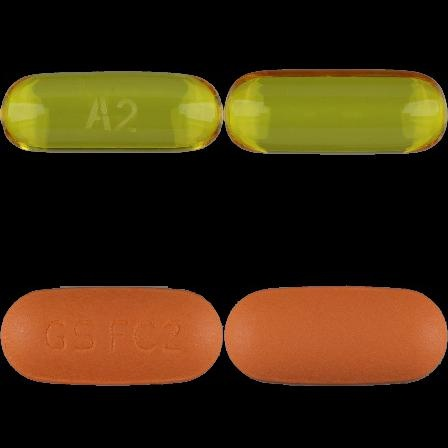50090-0872: (0, 0, 224, 224)
